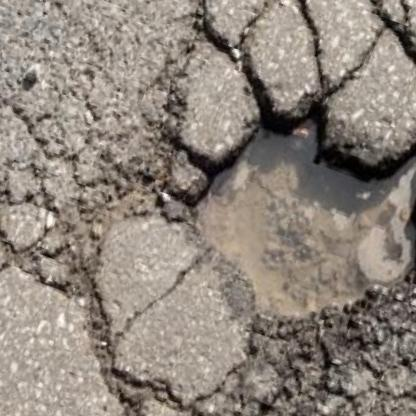pothole: (142, 55, 416, 382)
